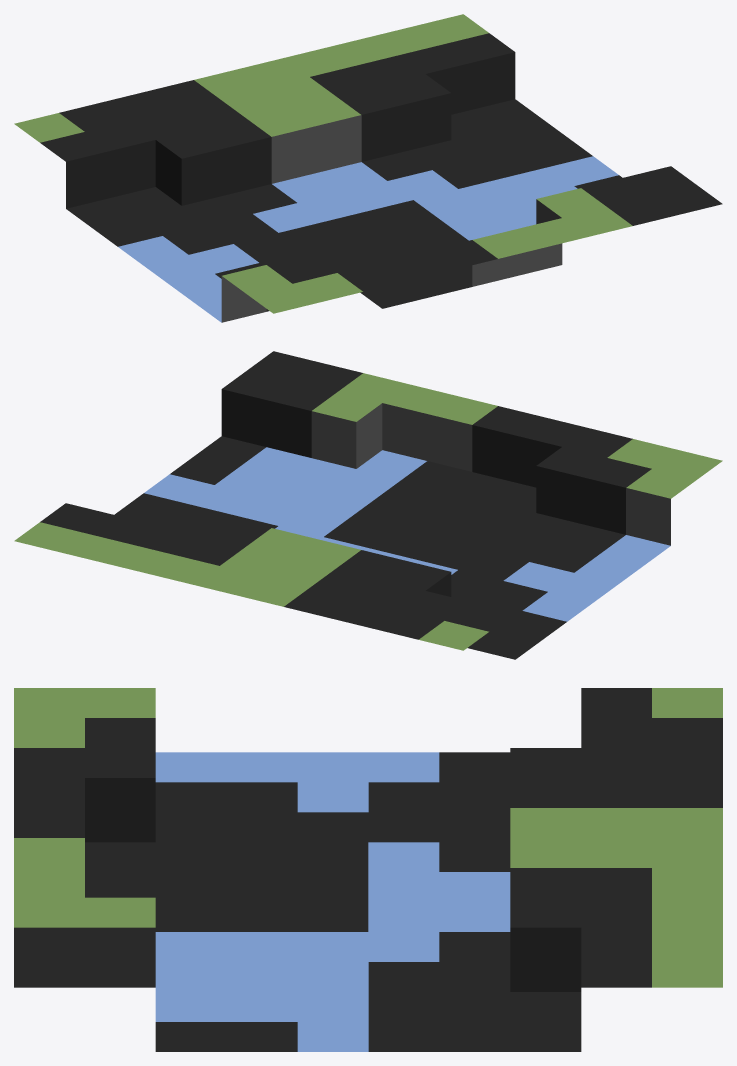
Rendered from terrain_river_polluted_0.fbx.
3 renders of one model, top to bottom at view 1: azimuth 30°, elevation 25°; view 2: azimuth 150°, elevation 25°; view 3: azimuth 270°, elevation 25°, orthographic. The views are drawn at different scales.
Parts seen in each view (by area): view 1: Grid.076; view 2: Grid.076; view 3: Grid.076.
Boxes of the visible parts, x1,y1,x2,y2 form: Grid.076: (14, 14, 722, 322); Grid.076: (14, 351, 722, 659); Grid.076: (14, 688, 722, 1051).
Size of the model in its own units: 200 by 20 by 200.
